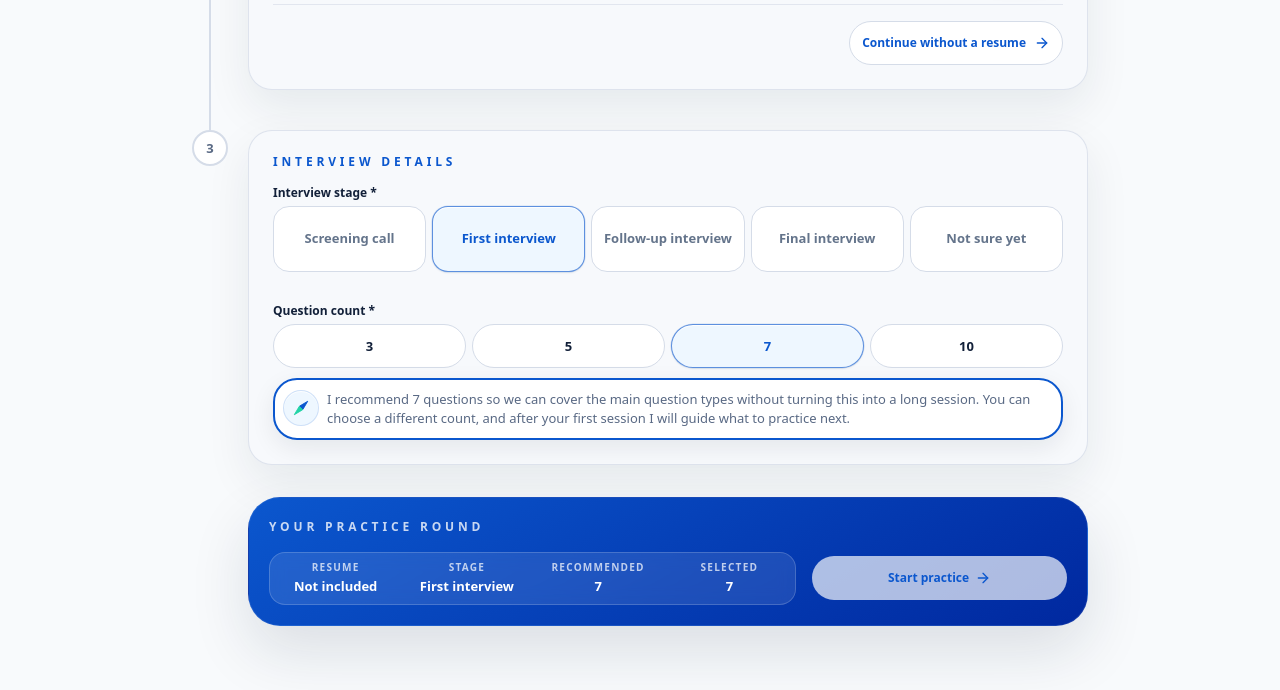
Test: shows a progress transition after setup submission
(page scrolled)
Click the button "Start practice": [940, 578] box [812,556,1067,600]
(page scrolled)
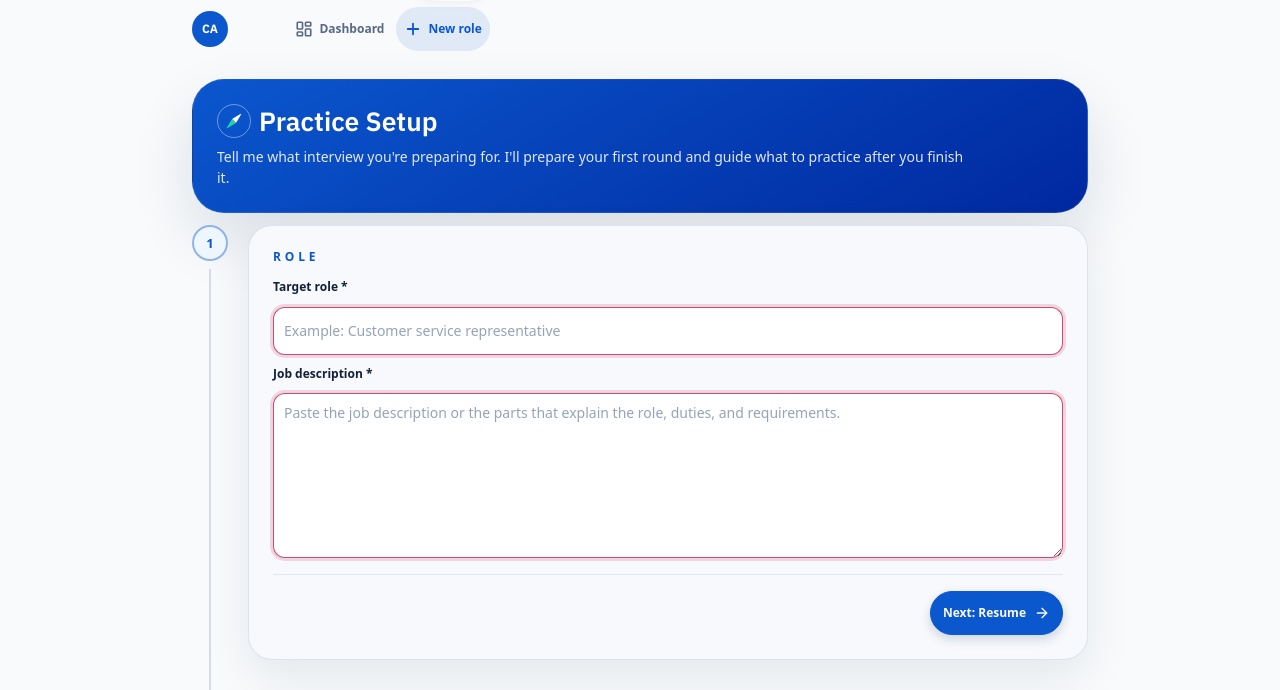
Expected: the field labelled "Target role *" is marked as invalid
Expected: the text box labelled "Job description *" is marked as invalid, [273,393,1063,558]
In the field labelled "Target role *": [668, 331] box [273,307,1063,355], type "Customer service representative"
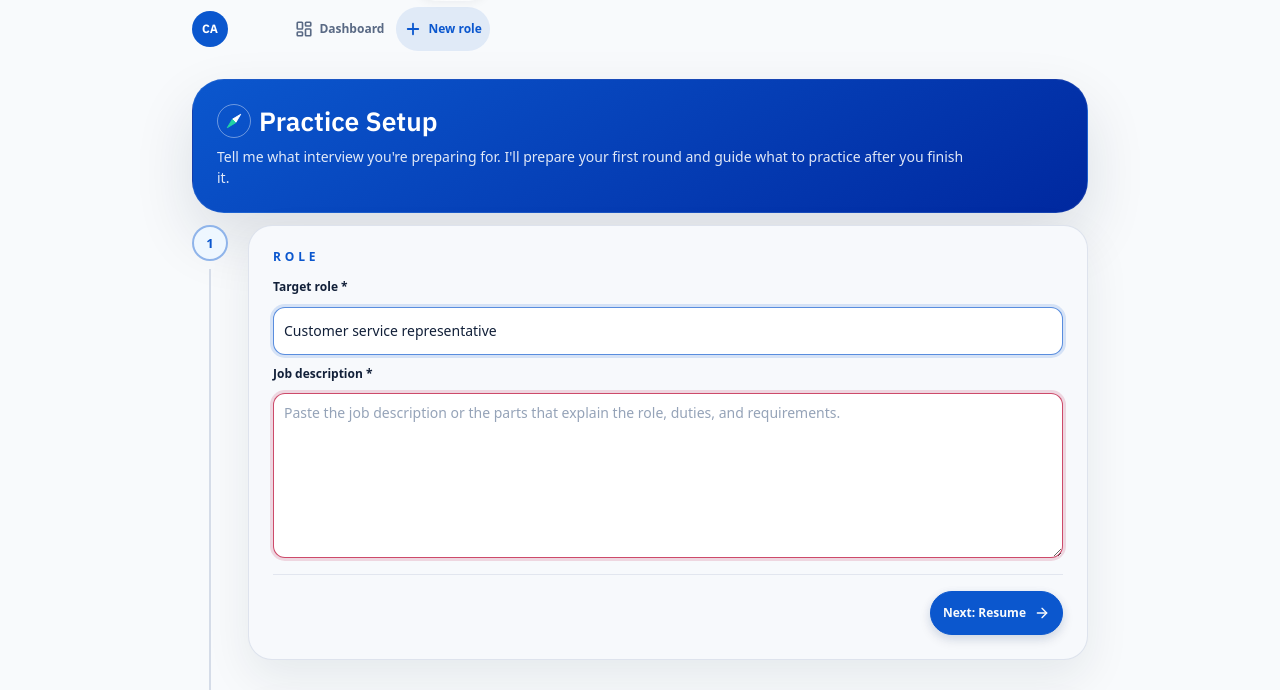
Expected: the field labelled "Target role *" is not marked as invalid, [273,307,1063,355]
Replace the text in the text box labelled "Job description *" with "Help customers resolve service questions.": [668, 476] box [273,393,1063,558]
(page scrolled)
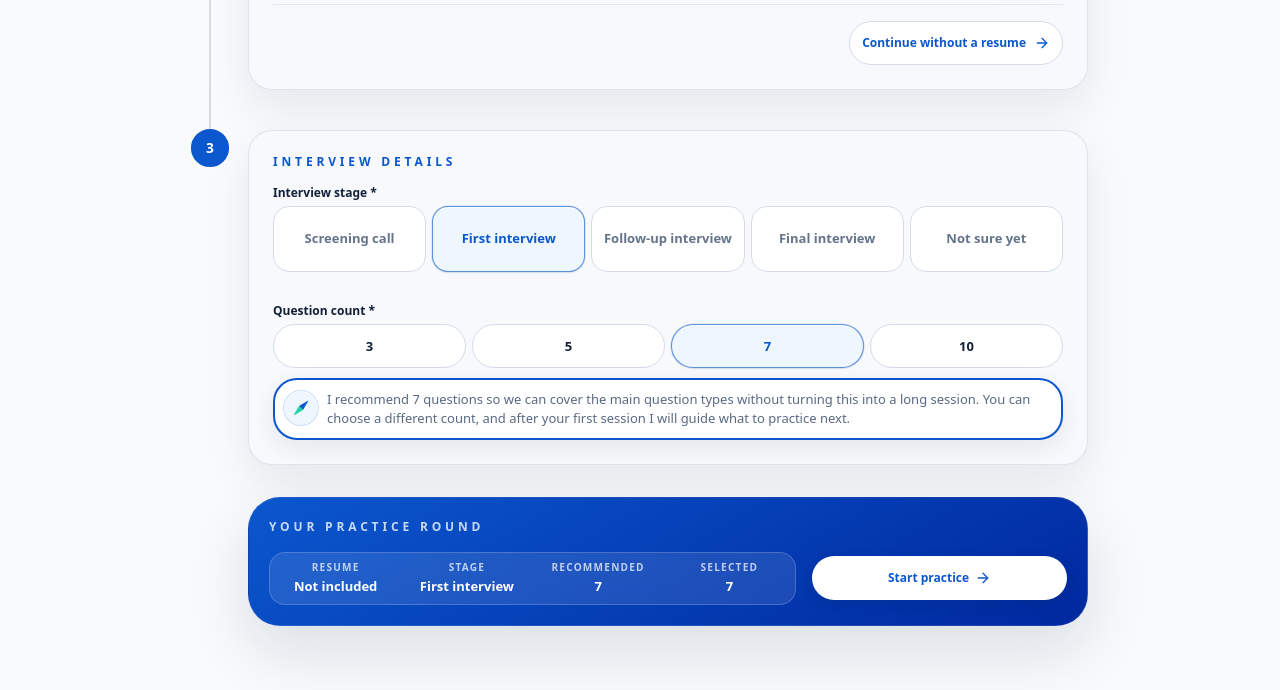
Expected: the button "Start practice" is enabled
Click the button "Start practice": [940, 578] box [812,556,1067,600]
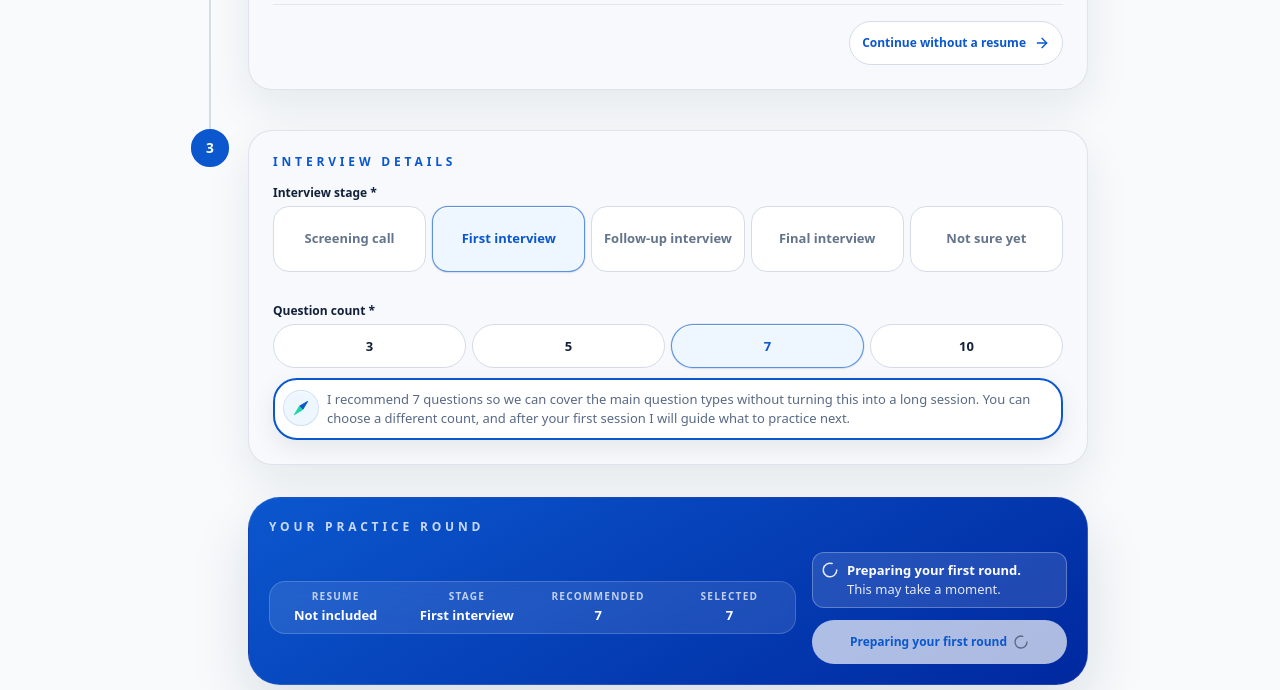
Expected: the text "Preparing your first round." is shown, [847,561,1021,579]
Expected: the text "This may take a moment." is shown, [847,580,1001,598]
